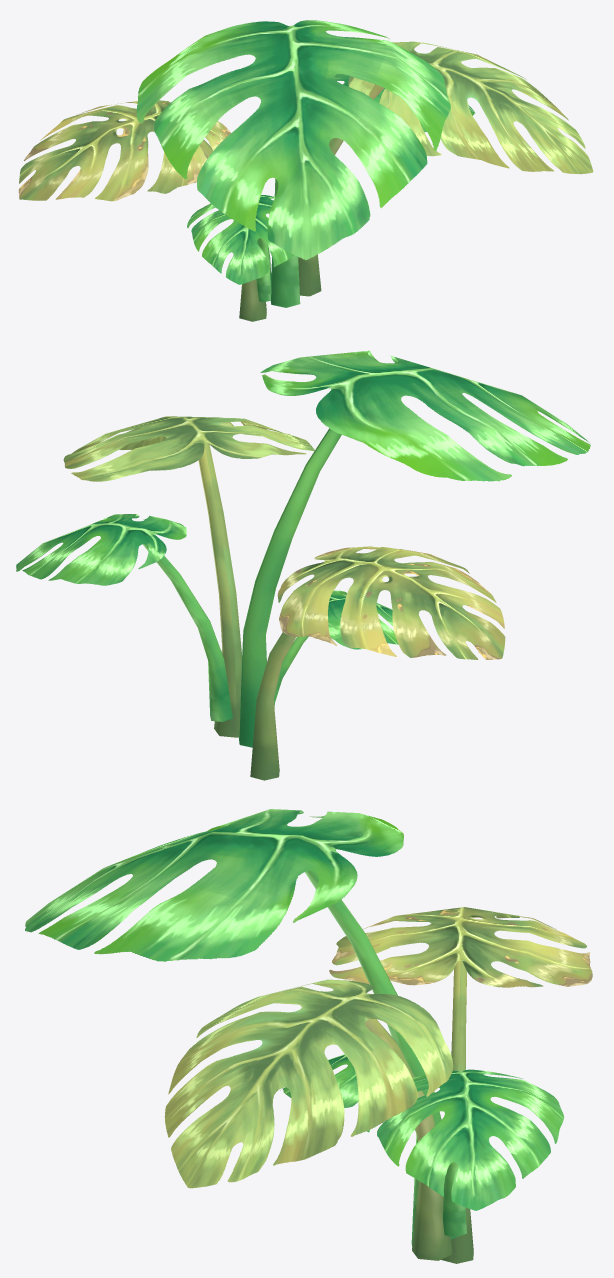
Rendered from swiss_cheese_foliage.glb.
The picture shows the model from 3 angles, top to bottom: view 1: azimuth 30°, elevation 25°; view 2: azimuth 150°, elevation 25°; view 3: azimuth 270°, elevation 25°; orthographic projection. The views are drawn at different scales.
Visible parts, largest first — view 1: Garden-Foliage_2_1; view 2: Garden-Foliage_2_1; view 3: Garden-Foliage_2_1.
Boxes of the visible parts, x1,y1,x2,y2 form: Garden-Foliage_2_1: (18,20,593,321); Garden-Foliage_2_1: (16,350,590,780); Garden-Foliage_2_1: (25,809,592,1263).
Bounding box in the file's own units: 4.03 × 2.65 × 3.48.
Materials: 1 (1 with a texture image).
